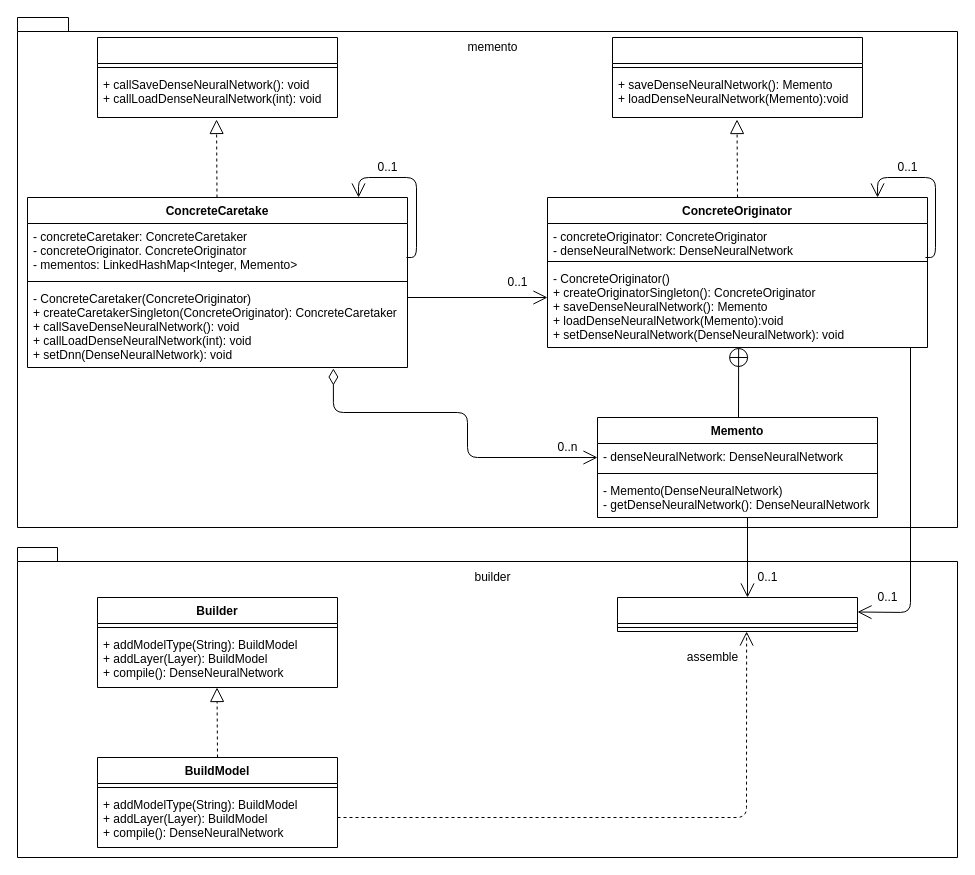
The diagram is 975 pixels wide and 875 high, and some of its shapes have lost their labels. The box of each missing label's shape, as (x1, y1, x2, y2) in pixels:
Caretaker: (96, 36, 338, 118)
DenseNeuralNetwork: (616, 596, 858, 632)
Originator: (612, 36, 862, 118)
